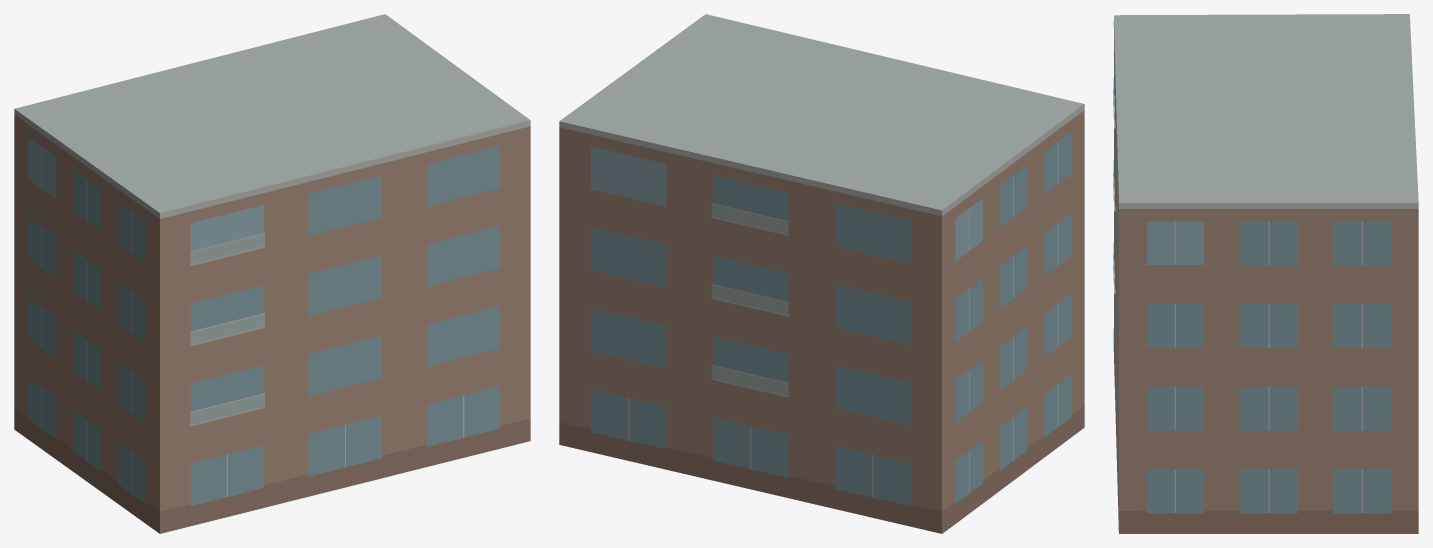
File: survey-upis-32891601.glb
The picture shows the model from 3 angles, left to right: view 1: azimuth 30°, elevation 25°; view 2: azimuth 150°, elevation 25°; view 3: azimuth 270°, elevation 25°; orthographic projection. The views are drawn at different scales.
Visible parts, largest first — view 1: survey-upis-32891601.tmp; view 2: survey-upis-32891601.tmp; view 3: survey-upis-32891601.tmp.
Part boxes in pixels (box(x1,y1,x2,y2)): survey-upis-32891601.tmp: box(14, 14, 530, 533); survey-upis-32891601.tmp: box(559, 14, 1084, 533); survey-upis-32891601.tmp: box(1113, 14, 1418, 533).
Bounding box in the file's own units: 16.18 × 13.2 × 11.05.
